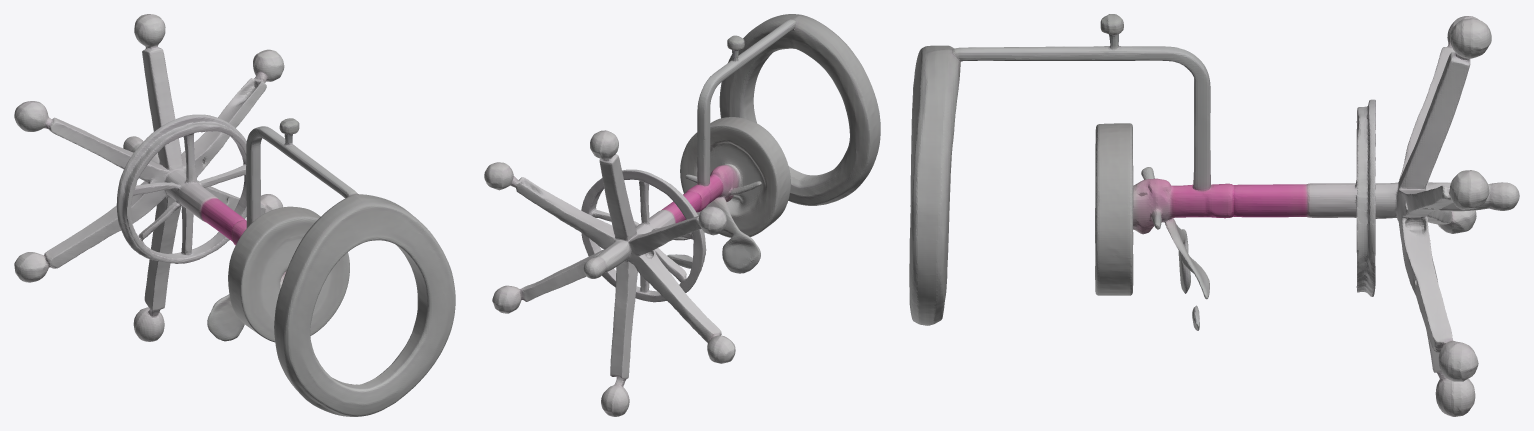
3 renders of one model, left to right at view 1: azimuth 30°, elevation 25°; view 2: azimuth 150°, elevation 25°; view 3: azimuth 270°, elevation 25°, orthographic. The views are drawn at different scales.
Visible parts, largest first — view 1: world; view 2: world; view 3: world.
Boxes of the visible parts, <box> form: world: <box>14,14,455,416</box>; world: <box>484,14,880,416</box>; world: <box>909,14,1519,416</box>.
Size of the model in its own units: 0.639 by 0.7224 by 0.9964.
